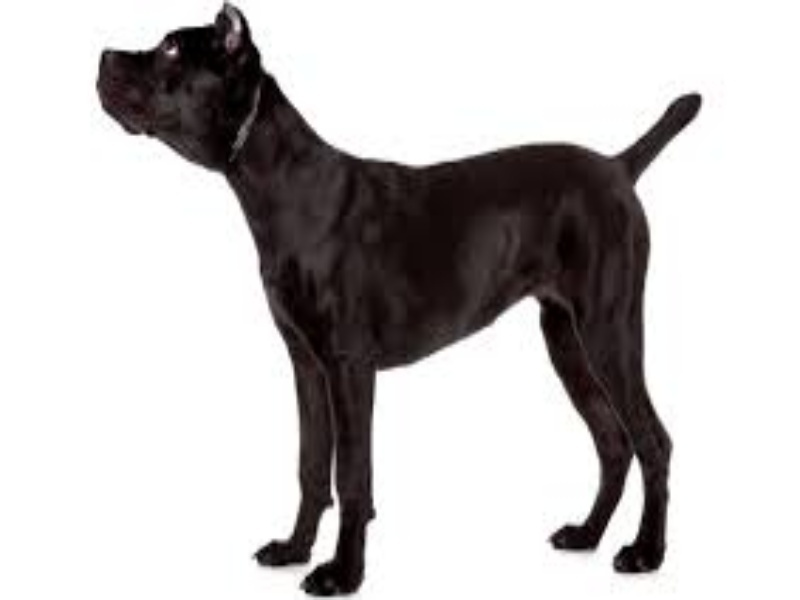dog: (93, 1, 704, 600)
